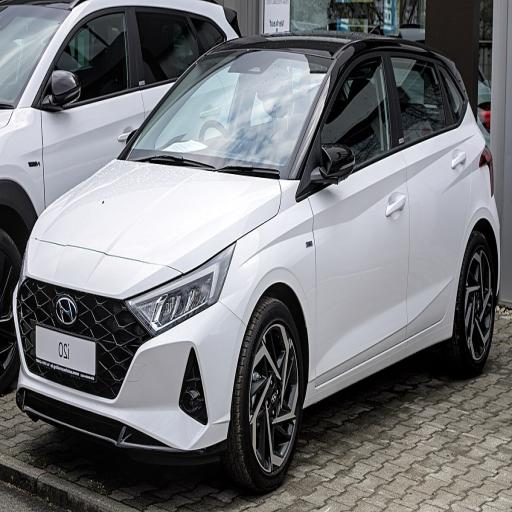License: (32, 324, 101, 378)
